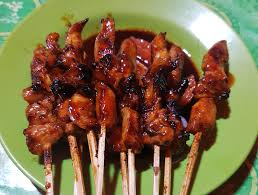sate: (15, 10, 246, 171)
